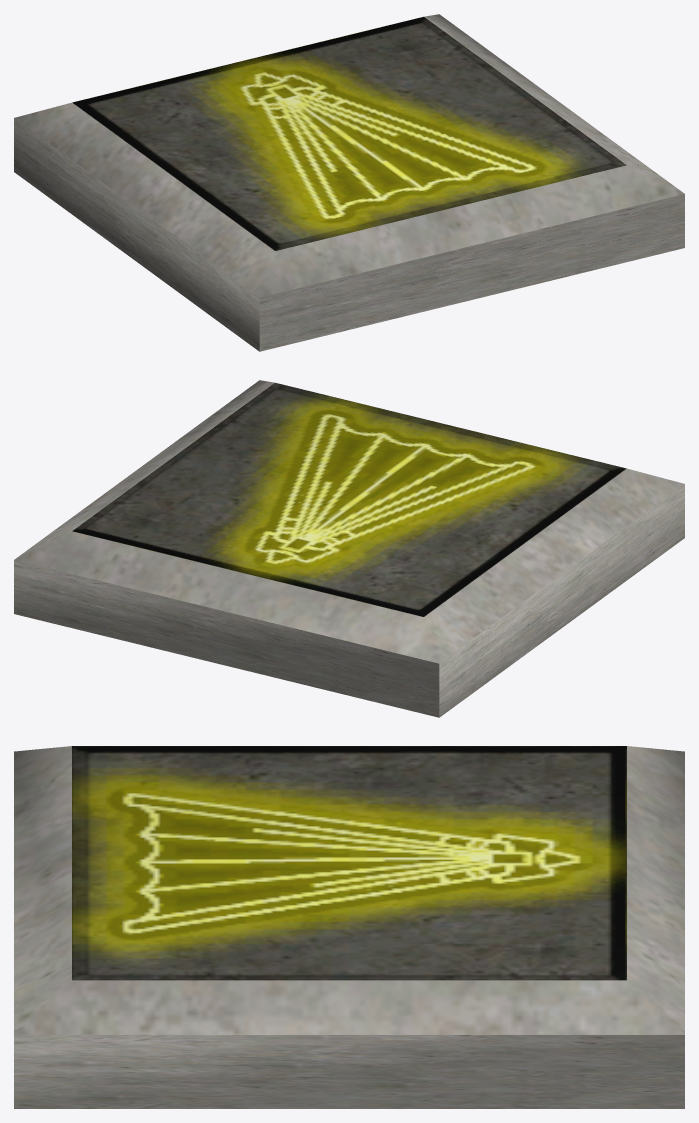
Rendered from FLOOR_RUIN_BILLOWS_FLOOR_RUIN_BILLOWS02.fbx.
3 renders of one model, top to bottom at view 1: azimuth 30°, elevation 25°; view 2: azimuth 150°, elevation 25°; view 3: azimuth 270°, elevation 25°, orthographic. The views are drawn at different scales.
Parts seen in each view (by area): view 1: FLOOR_RUIN_BILLOWS_FLOOR_RUIN_BILLOWS02; view 2: FLOOR_RUIN_BILLOWS_FLOOR_RUIN_BILLOWS02; view 3: FLOOR_RUIN_BILLOWS_FLOOR_RUIN_BILLOWS02.
Boxes of the visible parts, x1,y1,x2,y2 form: FLOOR_RUIN_BILLOWS_FLOOR_RUIN_BILLOWS02: (14, 14, 684, 351); FLOOR_RUIN_BILLOWS_FLOOR_RUIN_BILLOWS02: (14, 380, 684, 717); FLOOR_RUIN_BILLOWS_FLOOR_RUIN_BILLOWS02: (14, 746, 684, 1108).
Size of the model in its own units: 15000 by 2565 by 15000.
2 materials, 2 textured.
